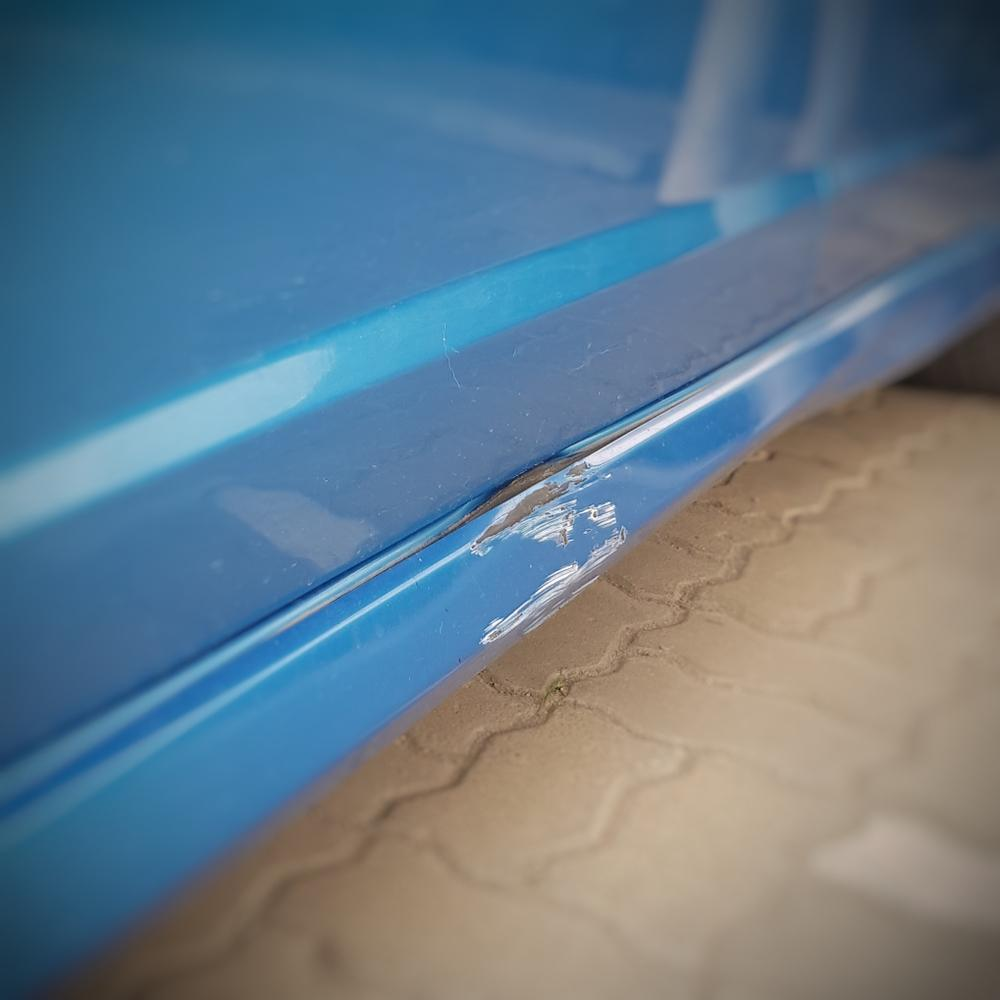scratch: (459, 447, 636, 658)
